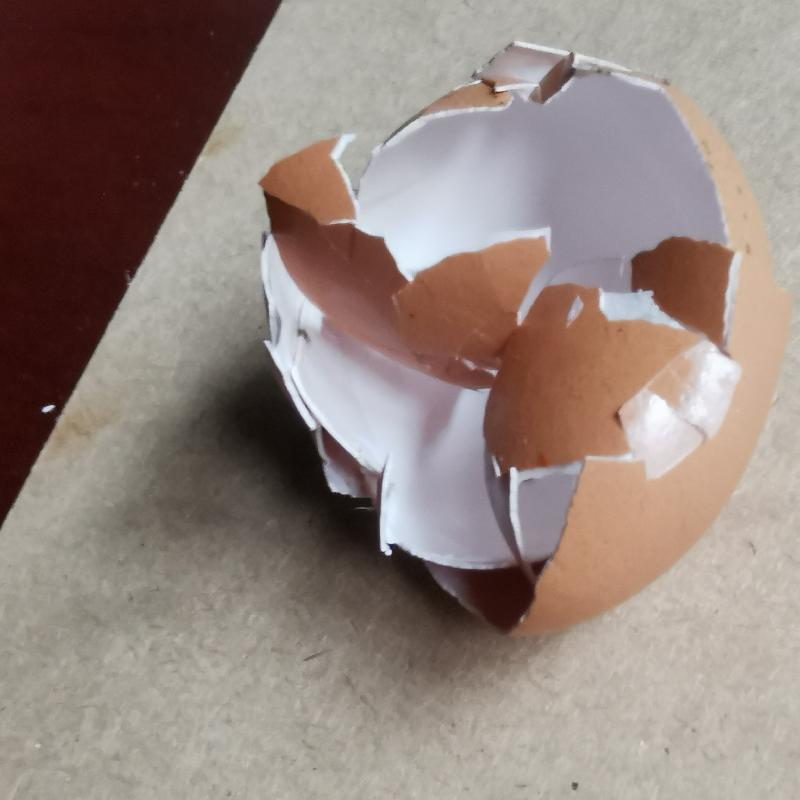eggshell: (259, 39, 785, 643)
